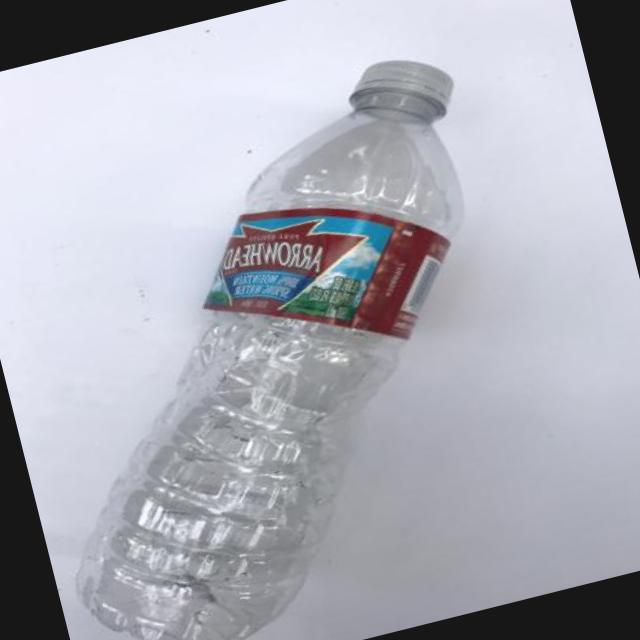plastic: (50, 66, 505, 622)
